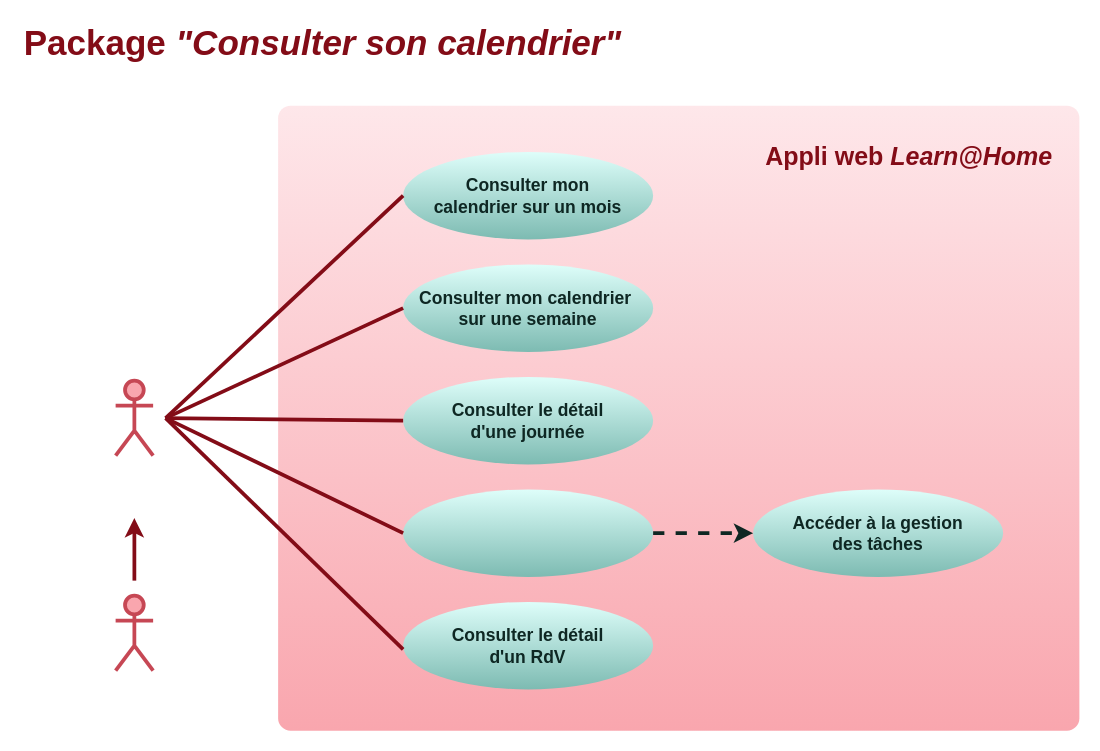
This 1100x751 diagram has some shape labels left out. The shapes that lost their labels are listed below. From the top down, each one's centre as x and y in pixels, then its label:
At point (133, 417): "Elève Parent d'élève".
At point (527, 532): "Consulter le détail d'une de mes tâches".
At point (133, 632): "Tuteur".
